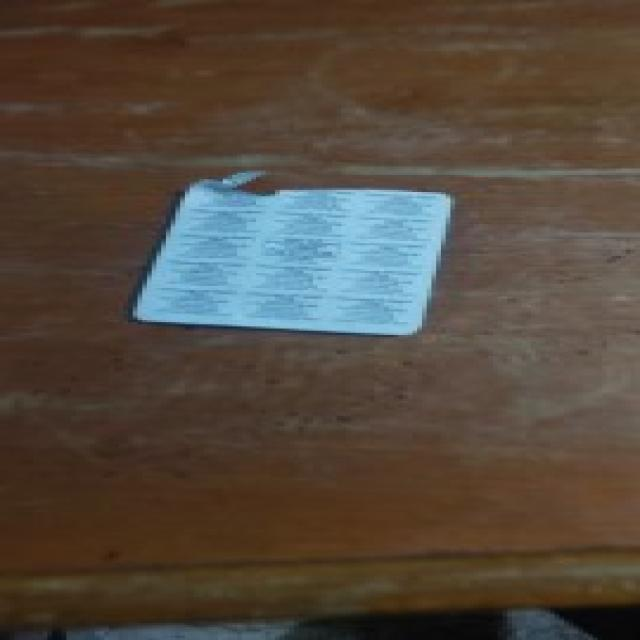Cacat: (129, 164, 455, 341)
Kemasan: (186, 167, 289, 205)
